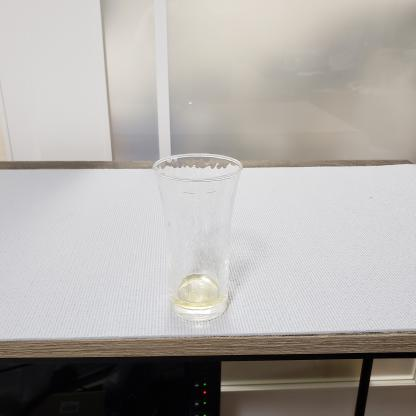glass: (148, 144, 264, 326)
